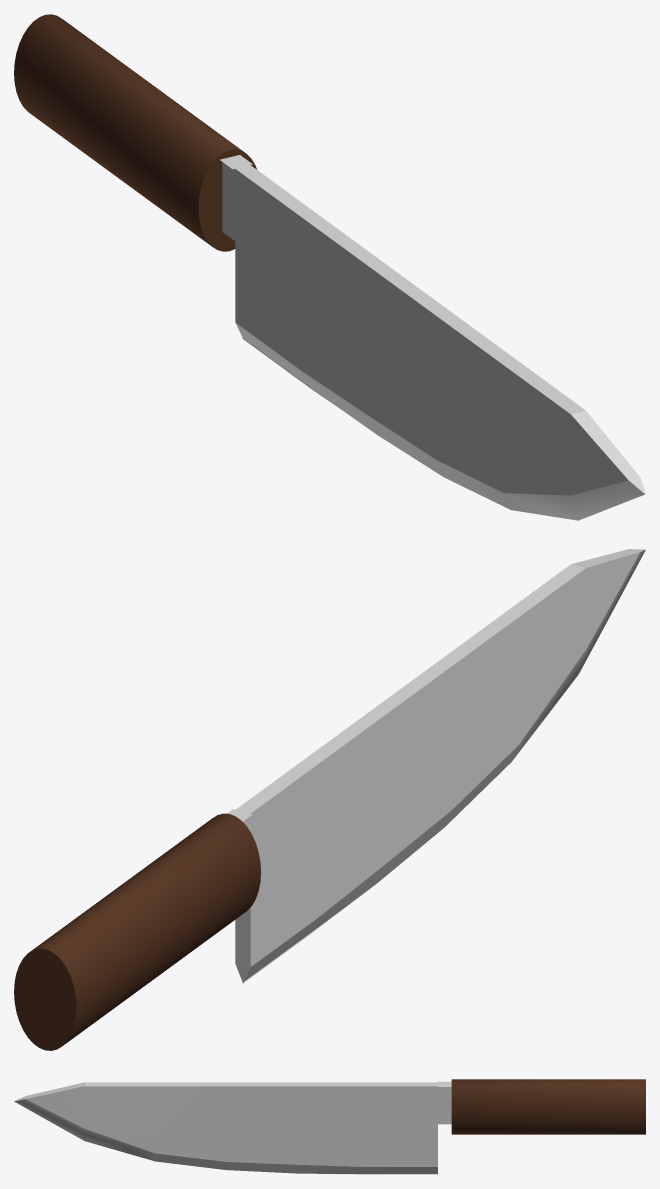
The model's file is KNIFE.fbx.
3 views of the same model, one above another, from view 1: azimuth 30°, elevation 25°; view 2: azimuth 150°, elevation 25°; view 3: azimuth 270°, elevation 25° (orthographic). The views are drawn at different scales.
Parts seen in each view (by area): view 1: Cube, Cylinder; view 2: Cube, Cylinder; view 3: Cube, Cylinder.
Boxes of the visible parts, box(x1,y1,x2,y2) form: Cube: box(220, 155, 645, 520); Cylinder: box(14, 14, 256, 251); Cube: box(227, 549, 645, 983); Cylinder: box(14, 813, 260, 1050); Cube: box(14, 1081, 451, 1174); Cylinder: box(451, 1079, 645, 1134).
Bounding box in the file's own units: 17.96 × 49.08 × 298.
